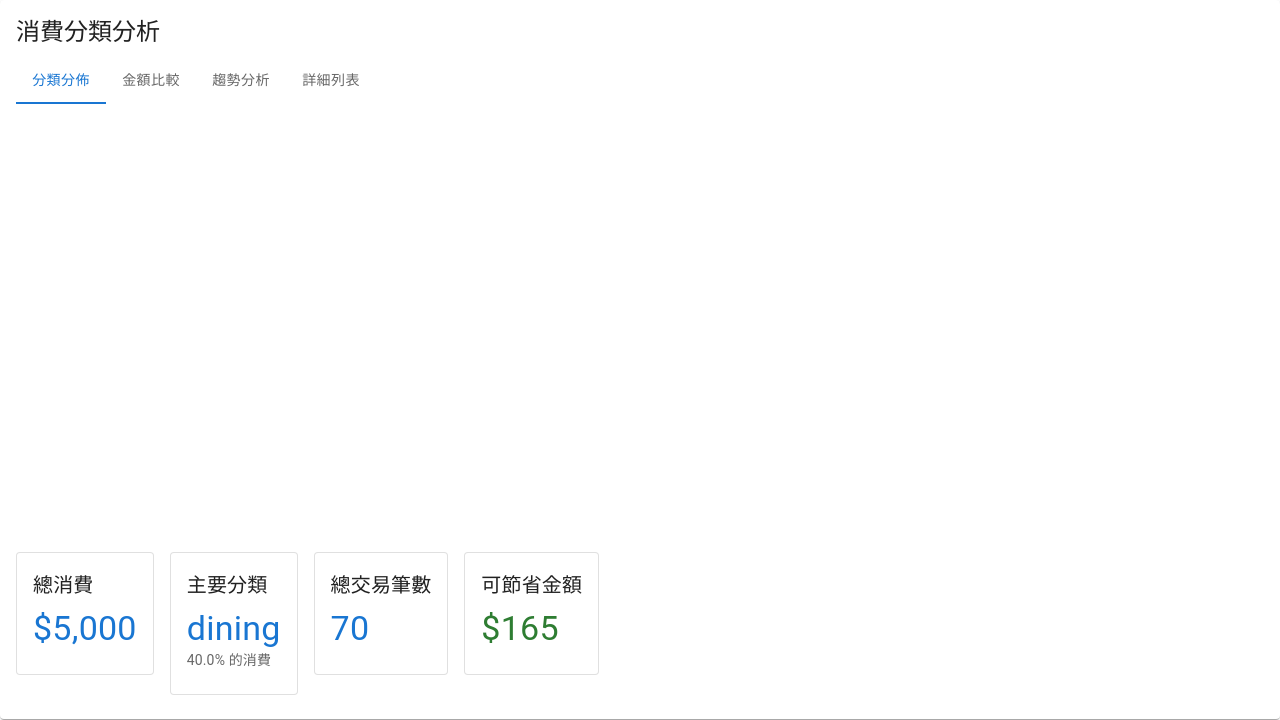
Test: SpendingCategoriesChart › displays detailed list when switching to detail tab
The width and height of the screenshot is (1280, 720).
# Switch to detailed list tab
Click the tab "詳細列表": (331, 80) [286,56,376,104]
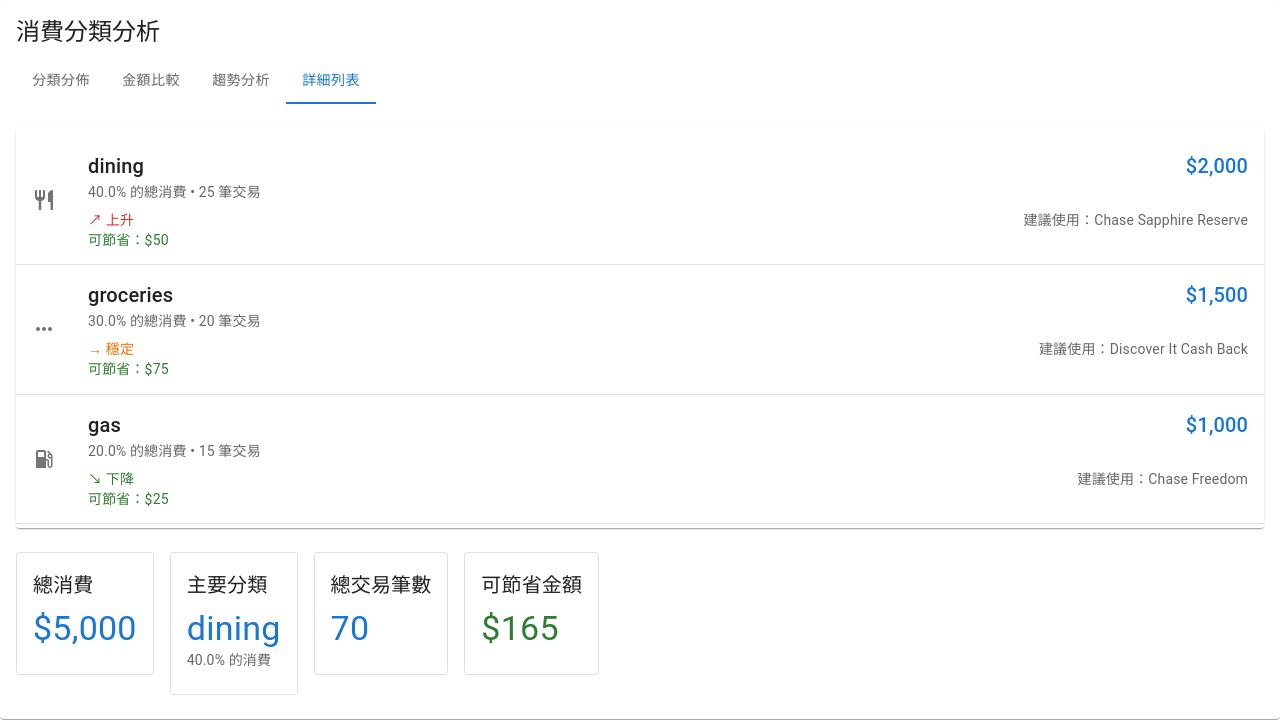
Expected: the text "40.0% 的總消費 • 25 筆交易" is shown, [88,184,261,200]
Expected: the text "30.0% 的總消費 • 20 筆交易" is shown, [88,314,261,330]
Expected: the text "20.0% 的總消費 • 15 筆交易" is shown, [88,442,261,458]
